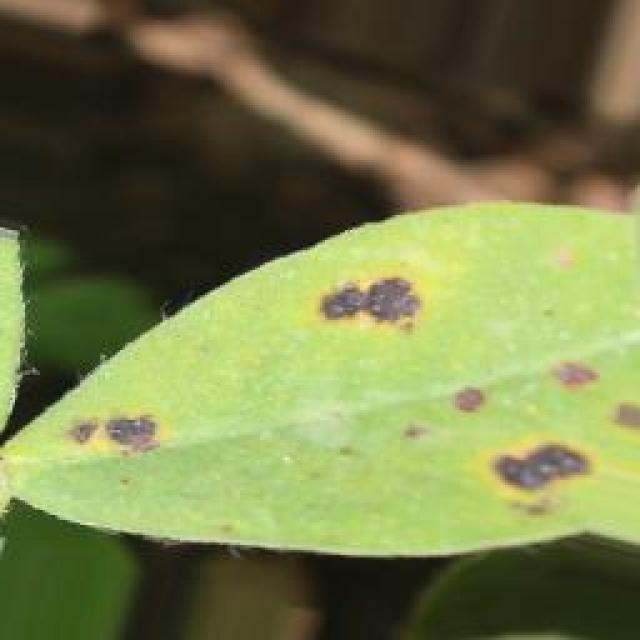Yellowish: (37, 240, 640, 565)
